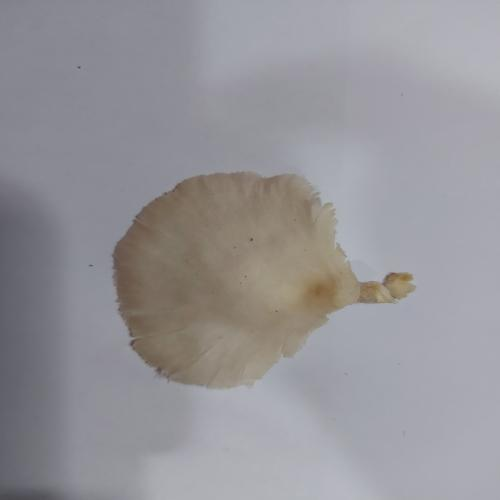Oyster Mushroom: (110, 169, 416, 390)
